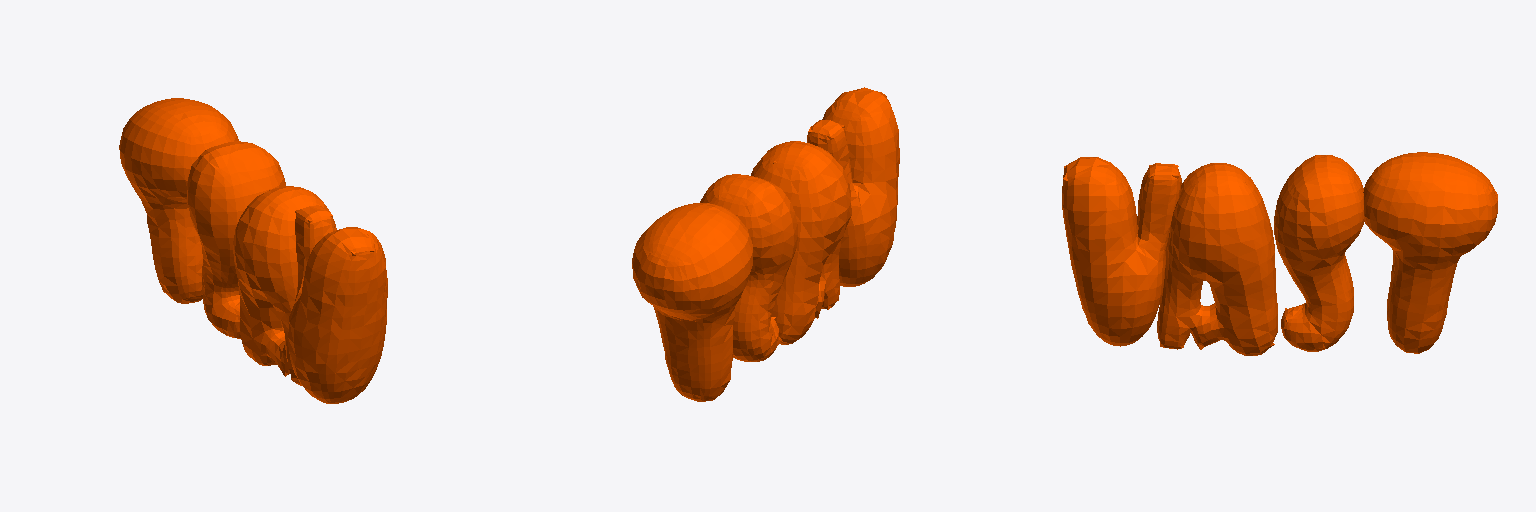
File: 12_vast.obj
The picture shows the model from 3 angles: view 1: azimuth 30°, elevation 25°; view 2: azimuth 150°, elevation 25°; view 3: azimuth 270°, elevation 25°; orthographic projection.
Parts seen in each view (by area): view 1: _vast:vast; view 2: _vast:vast; view 3: _vast:vast.
Boxes of the visible parts, x1,y1,x2,y2 form: _vast:vast: [119, 98, 387, 403]; _vast:vast: [632, 87, 899, 401]; _vast:vast: [1062, 152, 1497, 355].
Bounding box in the file's own units: 0.1407 × 0.2581 × 0.5276.